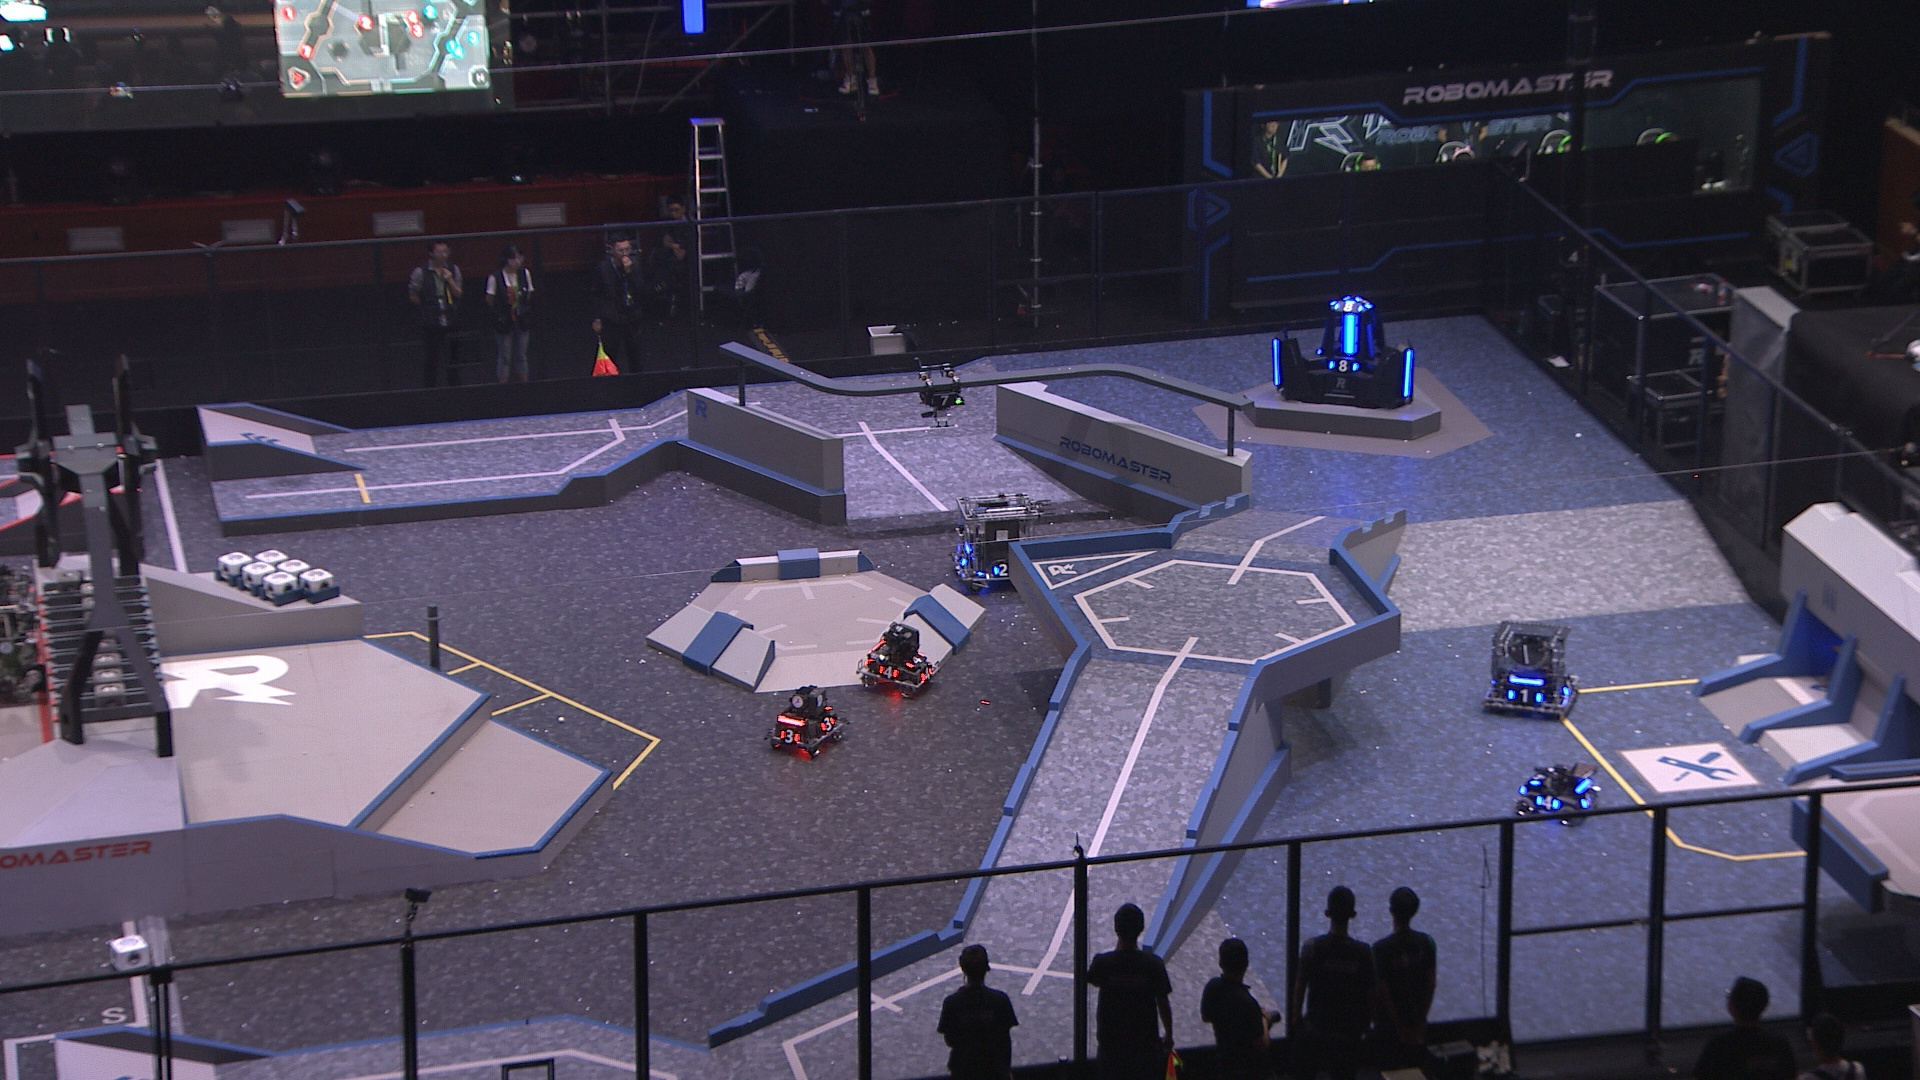armor: (1338, 314, 1362, 357), (1269, 334, 1283, 390), (1505, 687, 1548, 705), (1403, 344, 1416, 400), (1534, 790, 1560, 812), (1557, 671, 1578, 699), (926, 392, 963, 407), (1528, 765, 1549, 790), (1333, 299, 1364, 315), (778, 727, 802, 746), (902, 651, 924, 671), (876, 661, 898, 680), (1365, 320, 1377, 357), (1328, 360, 1360, 373), (992, 560, 1011, 580), (1576, 789, 1596, 808), (915, 665, 935, 683), (955, 547, 972, 568), (818, 711, 835, 732), (1354, 295, 1371, 309)
base: (1263, 291, 1419, 413)
car: (1481, 618, 1581, 717), (949, 487, 1038, 593), (1515, 754, 1604, 835), (856, 618, 944, 698), (765, 680, 845, 760)
watcher: (915, 353, 964, 427)
